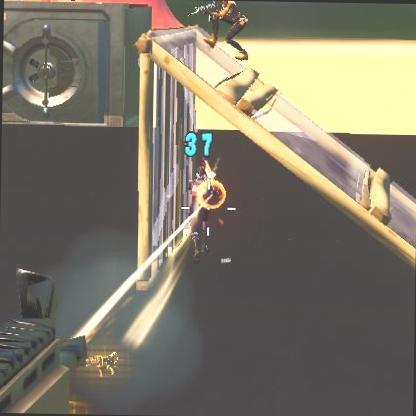person: (192, 160, 220, 250), (206, 1, 248, 51)
